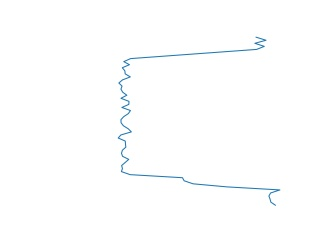distributaryChannelFill: (113, 35, 283, 207)
